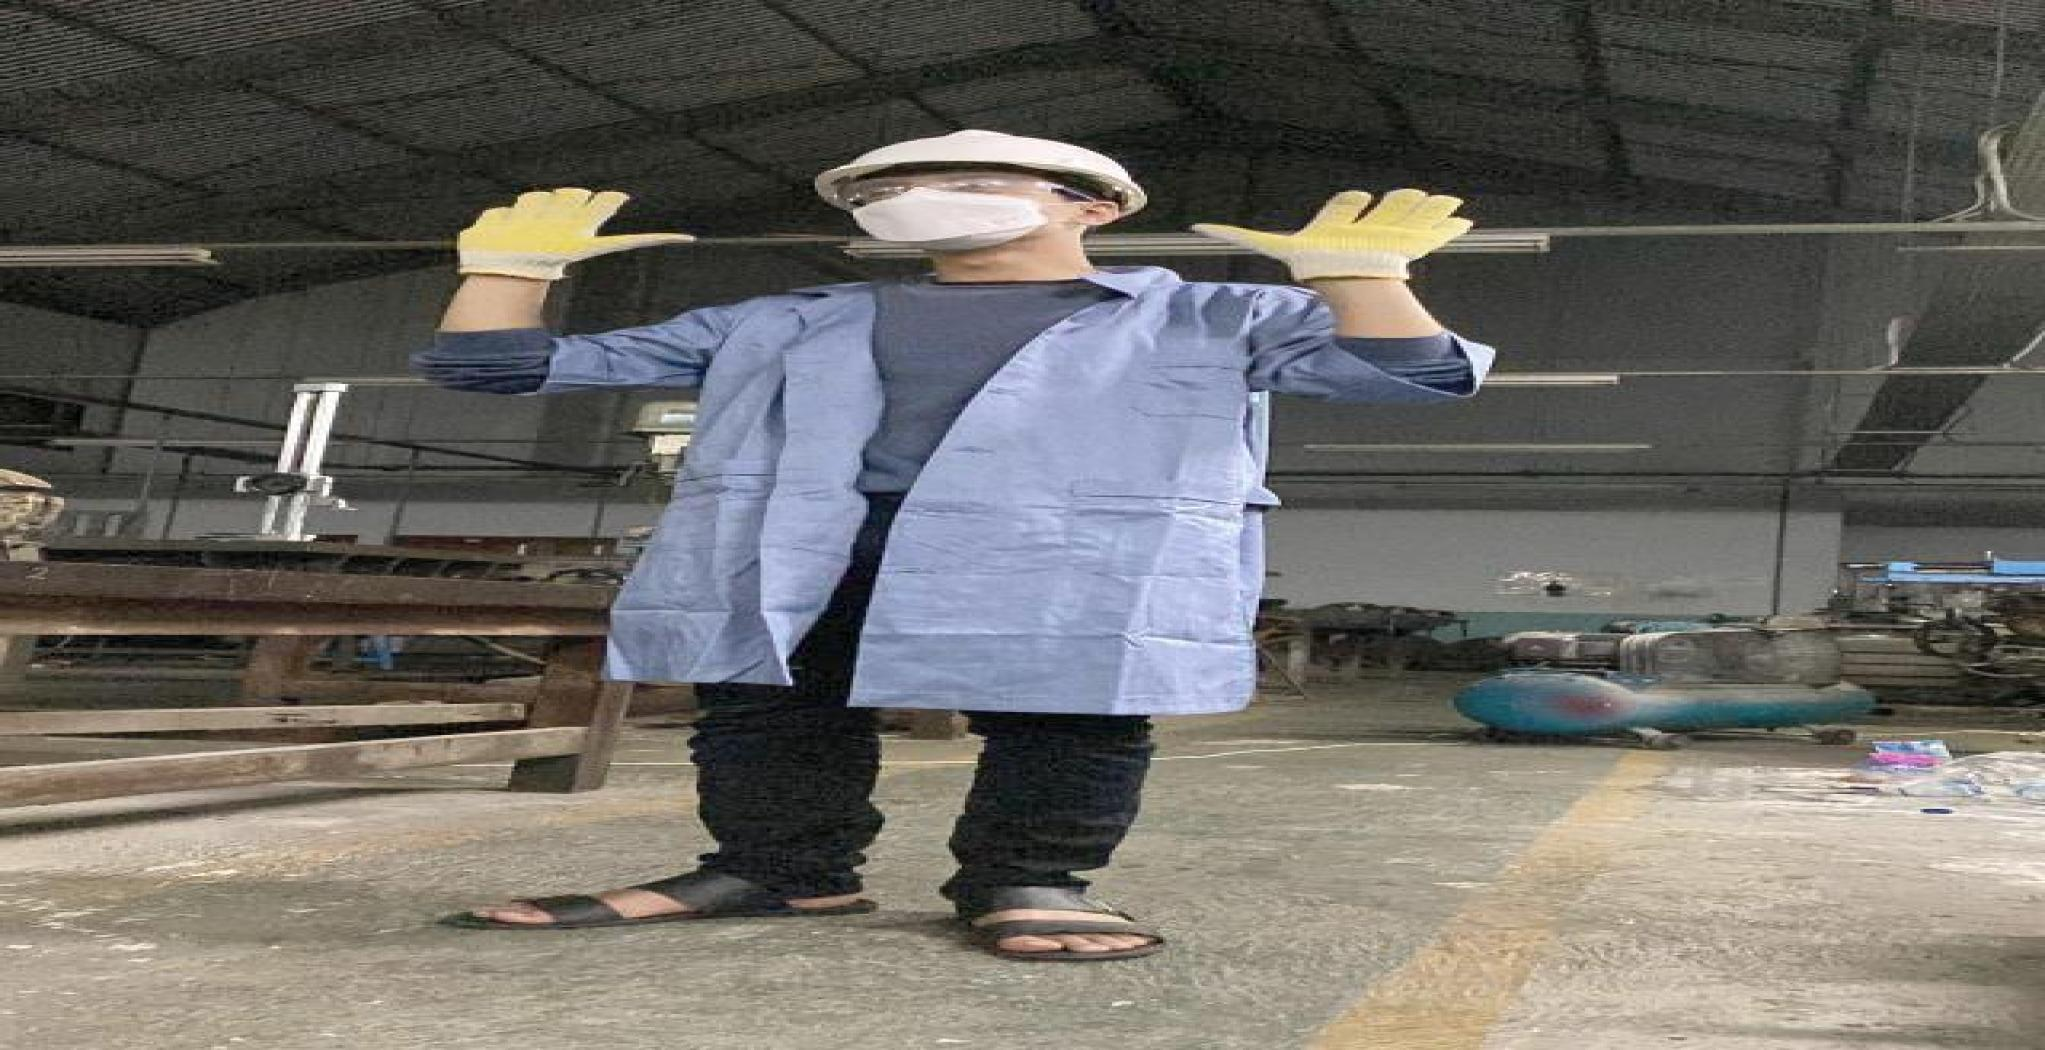gloved: (1219, 175, 1480, 281), (450, 186, 696, 280)
